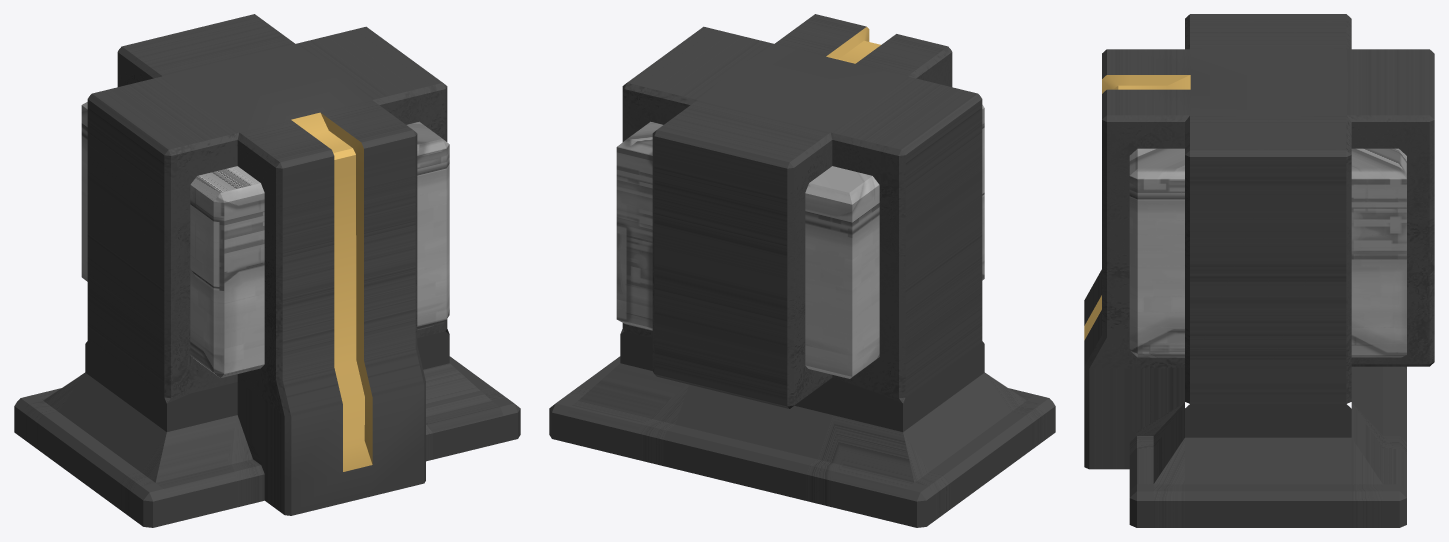
Rendered from NB_Building_1.fbx.
3 renders of one model, left to right at view 1: azimuth 30°, elevation 25°; view 2: azimuth 150°, elevation 25°; view 3: azimuth 270°, elevation 25°, orthographic.
Visible parts, largest first — view 1: NB_Building_1; view 2: NB_Building_1; view 3: NB_Building_1.
Boxes of the visible parts, x1,y1,x2,y2 form: NB_Building_1: (14, 14, 520, 527); NB_Building_1: (549, 14, 1055, 527); NB_Building_1: (1084, 14, 1434, 527).
Size of the model in its own units: 400 by 350 by 316.
